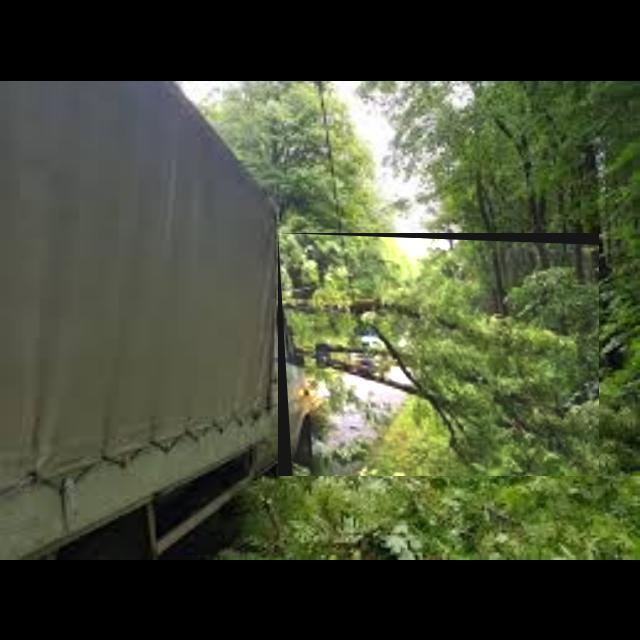fallen_tree: (278, 233, 600, 477)
